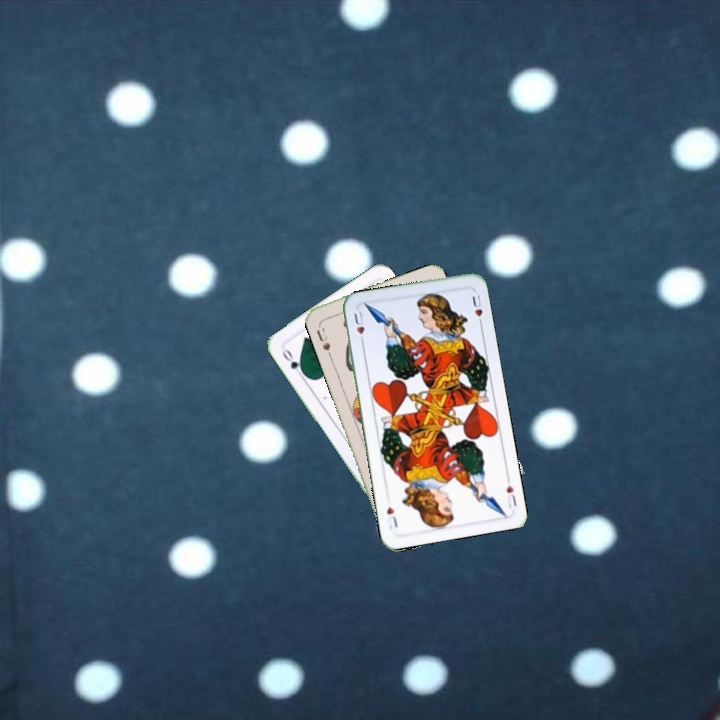GO: (278, 342, 308, 380)
HU: (350, 307, 367, 347), (502, 481, 519, 510)
SU: (312, 324, 333, 353)
